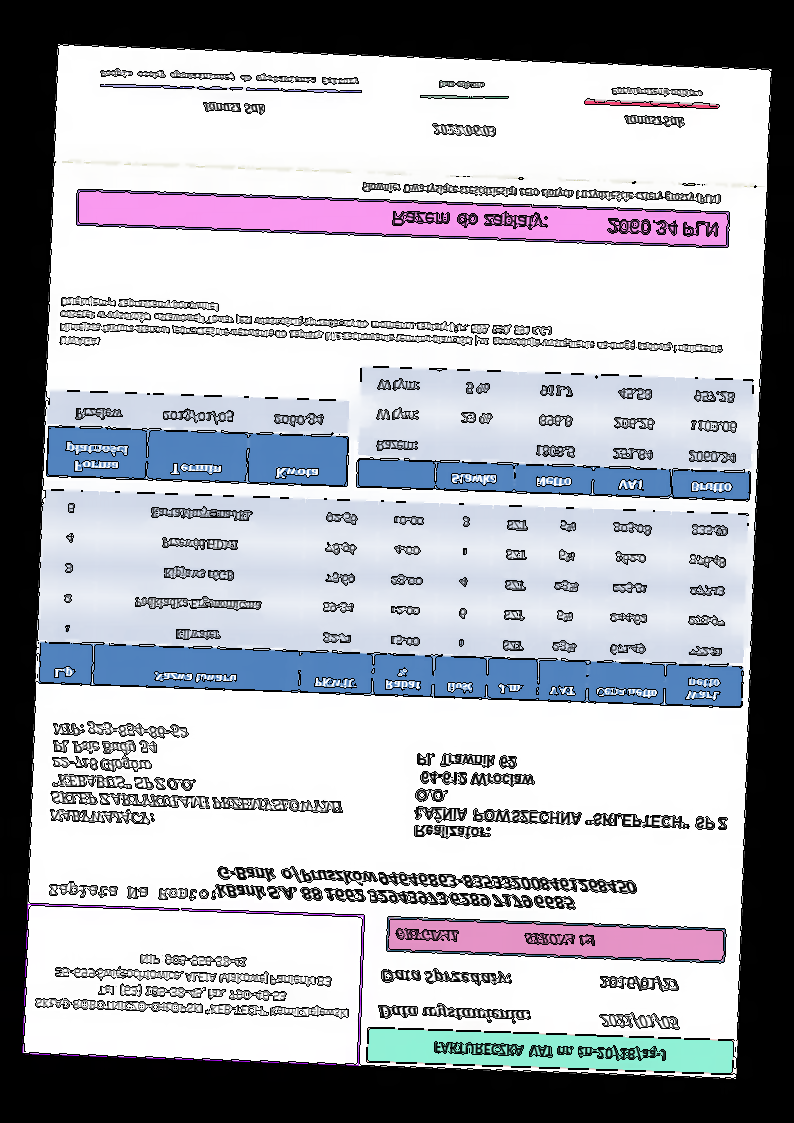Table: (36, 487, 750, 711), (355, 363, 756, 502), (45, 389, 350, 489)
TextBox: (58, 294, 726, 371), (47, 716, 349, 835), (411, 746, 734, 849), (33, 943, 354, 1024), (215, 864, 640, 913), (390, 207, 720, 240), (359, 179, 724, 207), (430, 1037, 668, 1067), (96, 66, 361, 87), (394, 924, 599, 949), (376, 997, 531, 1027), (47, 880, 218, 904), (377, 964, 514, 989), (598, 1008, 681, 1033), (597, 973, 681, 995), (199, 98, 267, 119), (609, 85, 705, 99), (430, 122, 499, 139), (621, 113, 686, 129), (435, 78, 488, 91)
